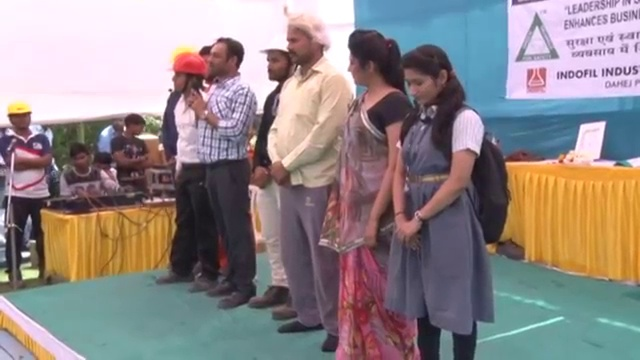helmet: (166, 53, 207, 79), (259, 26, 288, 54), (5, 102, 33, 116)
helmet_off: (402, 45, 457, 117), (342, 25, 398, 91), (279, 16, 329, 64), (205, 36, 243, 86), (91, 151, 115, 178), (124, 116, 147, 138), (70, 146, 90, 171), (110, 116, 125, 132)
helmet_on: (167, 52, 207, 94), (260, 26, 288, 82), (5, 102, 33, 133)
person: (391, 39, 513, 360), (267, 8, 357, 351), (339, 31, 423, 358), (155, 48, 223, 297), (200, 40, 258, 307), (250, 26, 297, 314), (1, 95, 52, 290), (60, 145, 125, 198), (111, 116, 153, 184), (97, 116, 127, 152)
